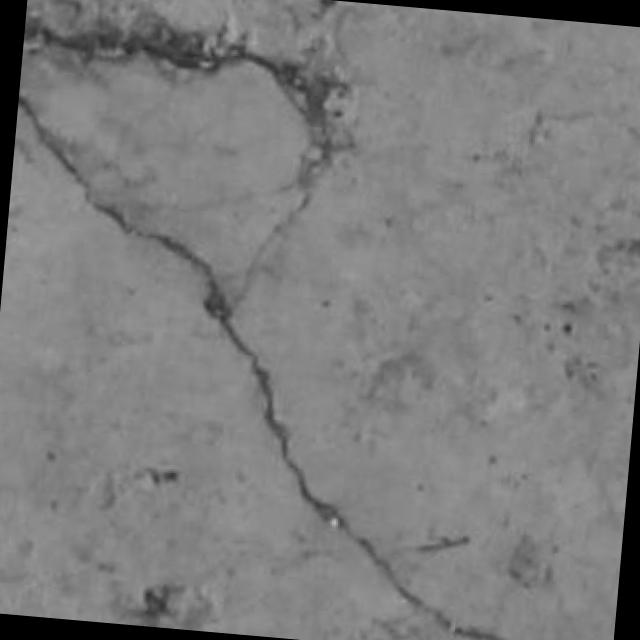crack: (18, 93, 507, 639), (23, 12, 353, 170), (416, 535, 470, 553)
